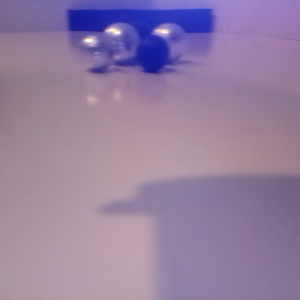alive_ball: (103, 22, 140, 65), (151, 22, 188, 63), (79, 35, 114, 71)
dead_ball: (134, 34, 170, 71)
